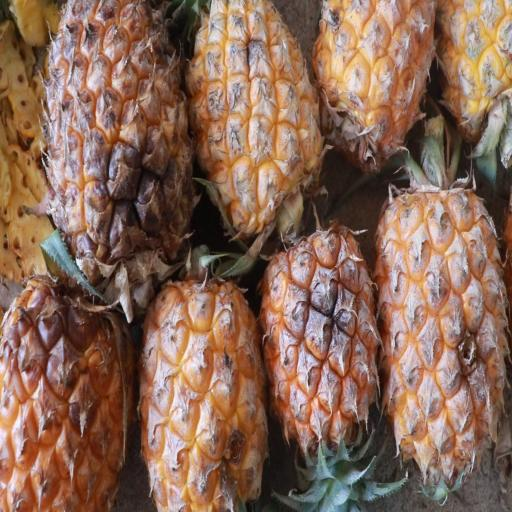Pineapple - v8 v1: (38, 0, 192, 295), (373, 168, 509, 488), (1, 263, 144, 511), (187, 0, 330, 246), (137, 258, 269, 509), (256, 214, 379, 453), (307, 0, 436, 172)
